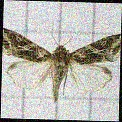Spodoptera litura: (2, 20, 120, 104)
